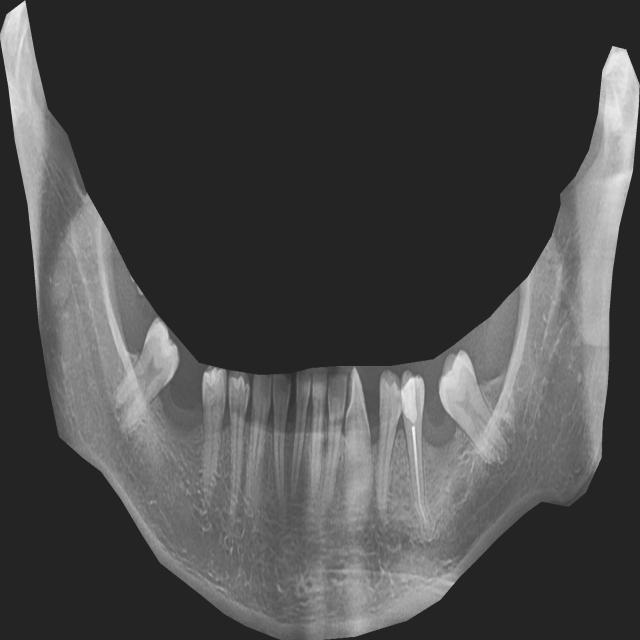mandibula: (0, 0, 640, 640)
